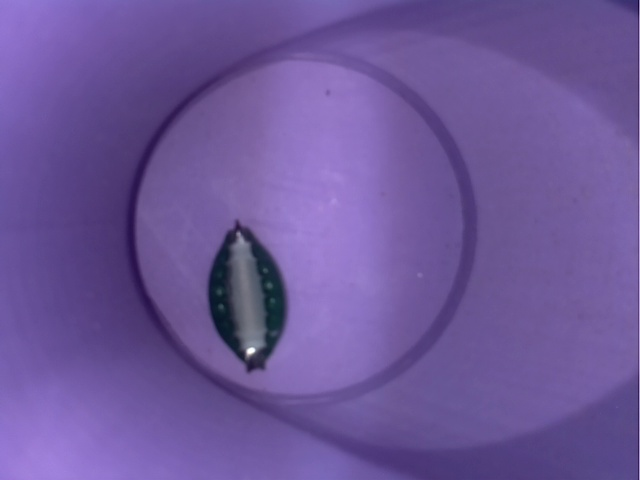capsule: (168, 207, 324, 380)
